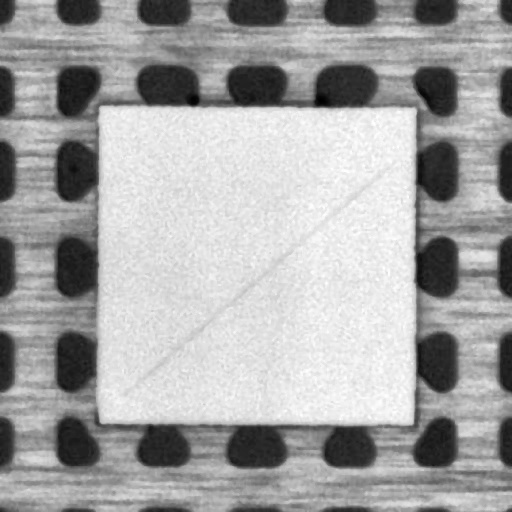DIE_CRACK: (123, 161, 392, 394)
